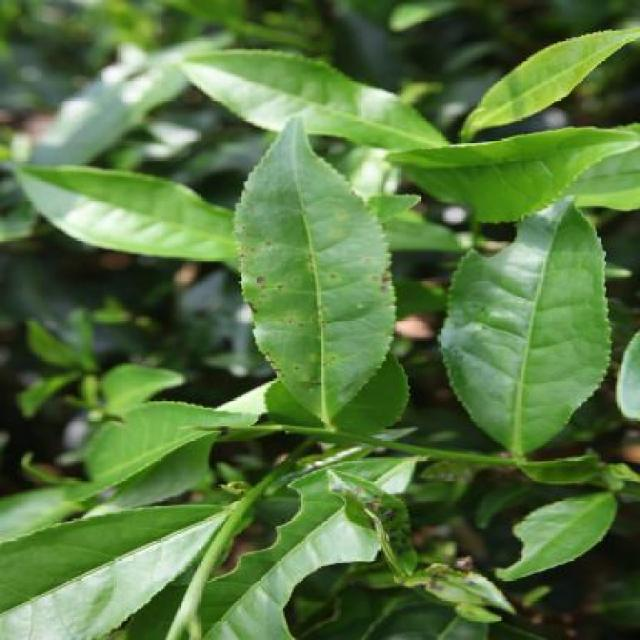Tea Mosquito bug infested leaf: (233, 94, 422, 461)
